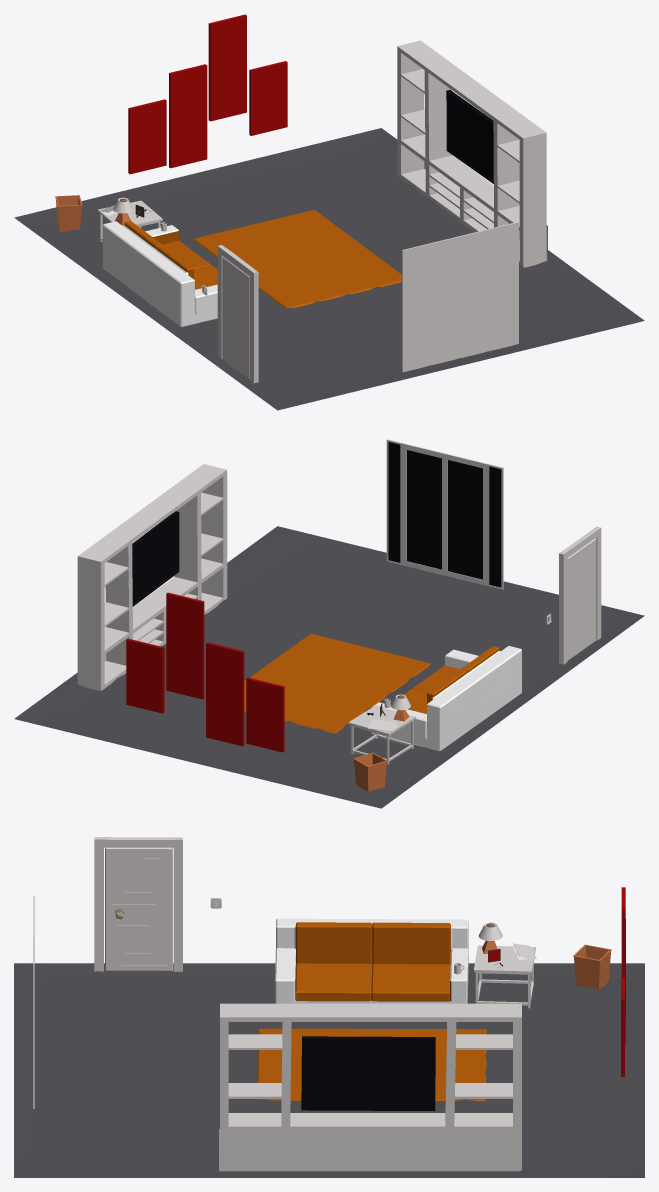
File: LowerRoomColoured.fbx
The picture shows the model from 3 angles, top to bottom: view 1: azimuth 30°, elevation 25°; view 2: azimuth 150°, elevation 25°; view 3: azimuth 270°, elevation 25°; orthographic projection. The views are drawn at different scales.
Parts seen in each view (by area): view 1: pPlane2, shelves_pPlane2, pCube26, pCube8, pPlane1, sofa:pCube2, door:polySurface1, tv:pCube1, pasted__pCube2, pCube24; view 2: pPlane2, shelves_pPlane2, pCube26, pCube8, pPlane1, sofa:pCube2, door:polySurface1, tv:pCube1, pCube24, pasted__pCube2; view 3: pPlane2, shelves_pPlane2, sofa:pCube2, door:polySurface1, tv:pCube1, pPlane1, pCube24, pasted__pCube2, pCube8, lamp:pPipe2.
Boxes of the visible parts, left/top/right/bottom form: pPlane2: left=14, top=128, right=644, bottom=410; shelves_pPlane2: left=397, top=40, right=547, bottom=267; pCube26: left=402, top=222, right=518, bottom=372; pCube8: left=128, top=14, right=287, bottom=174; pPlane1: left=193, top=210, right=401, bottom=308; sofa:pCube2: left=102, top=221, right=217, bottom=327; door:polySurface1: left=217, top=245, right=258, bottom=383; tv:pCube1: left=446, top=90, right=493, bottom=183; pasted__pCube2: left=55, top=195, right=82, bottom=232; pCube24: left=97, top=200, right=162, bottom=241; pPlane2: left=14, top=526, right=644, bottom=808; shelves_pPlane2: left=77, top=464, right=227, bottom=690; pCube26: left=386, top=439, right=503, bottom=589; pCube8: left=126, top=592, right=284, bottom=752; pPlane1: left=244, top=633, right=430, bottom=733; sofa:pCube2: left=371, top=646, right=521, bottom=751; door:polySurface1: left=559, top=526, right=601, bottom=664; tv:pCube1: left=132, top=511, right=179, bottom=606; pCube24: left=348, top=705, right=415, bottom=764; pasted__pCube2: left=353, top=752, right=387, bottom=791; pPlane2: left=14, top=963, right=644, bottom=1177; shelves_pPlane2: left=219, top=1003, right=521, bottom=1171; sofa:pCube2: left=275, top=918, right=468, bottom=1003; door:polySurface1: left=94, top=837, right=182, bottom=971; tv:pCube1: left=301, top=1036, right=435, bottom=1110; pPlane1: left=257, top=1028, right=486, bottom=1101; pCube24: left=474, top=945, right=535, bottom=1008; pasted__pCube2: left=573, top=944, right=611, bottom=989; pCube8: left=621, top=887, right=625, bottom=1076; lamp:pPipe2: left=478, top=922, right=502, bottom=953.
Bounding box in the file's own units: 19.04 × 7.76 × 23.66.
